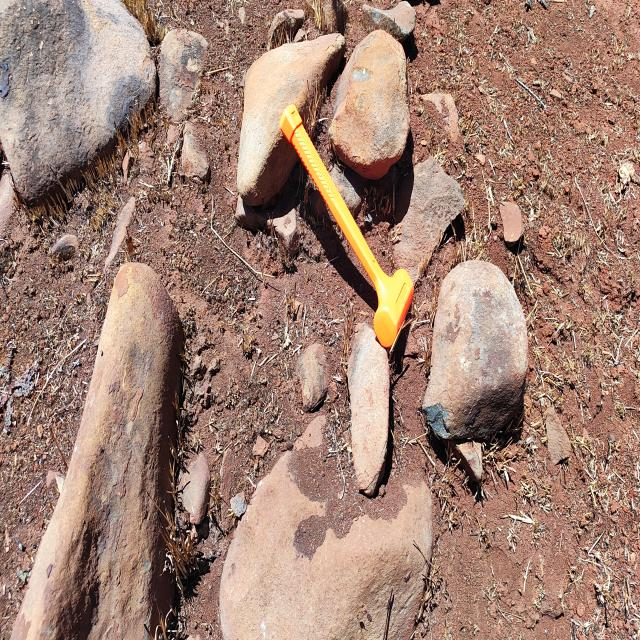Orange_hammer: (278, 102, 414, 351)
